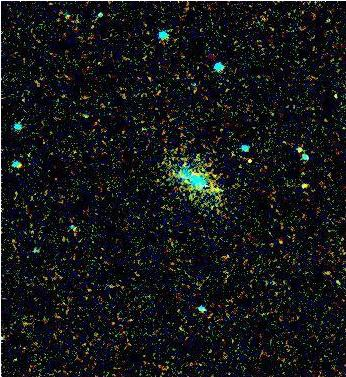star: (286, 166, 316, 196)
